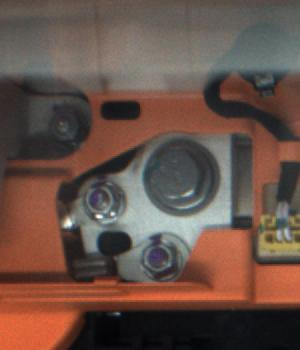nut_b: (138, 135, 224, 220)
